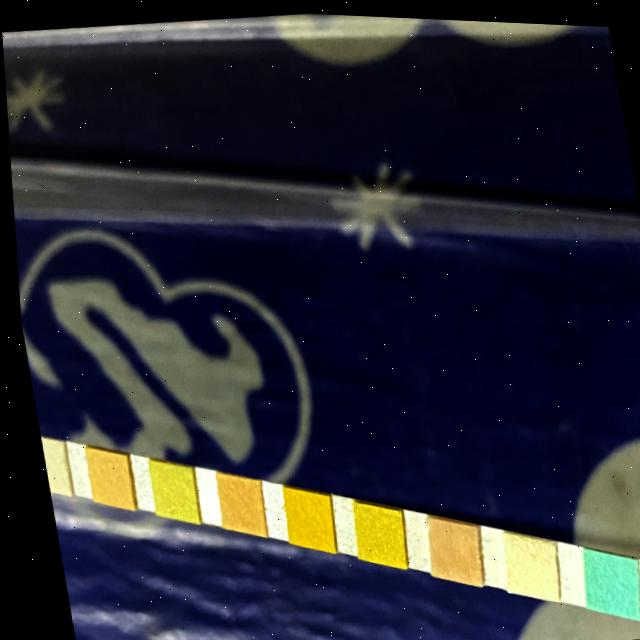Bilirubin: (497, 537, 549, 589)
Blood: (277, 490, 325, 540)
Glucose: (577, 550, 631, 607)
Ketone: (421, 521, 472, 575)
Nitrite: (35, 440, 60, 487)
Protein: (143, 467, 189, 515)
SpGravity: (347, 506, 397, 557)
Urobilinogen: (80, 451, 124, 501)
pH: (210, 477, 256, 528)
